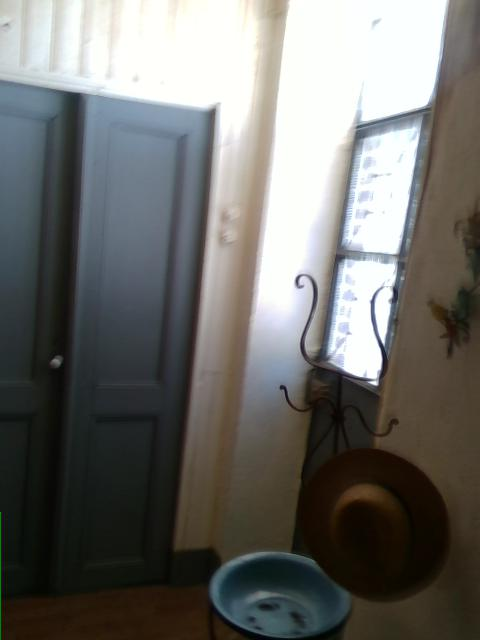door: (0, 76, 216, 596)
